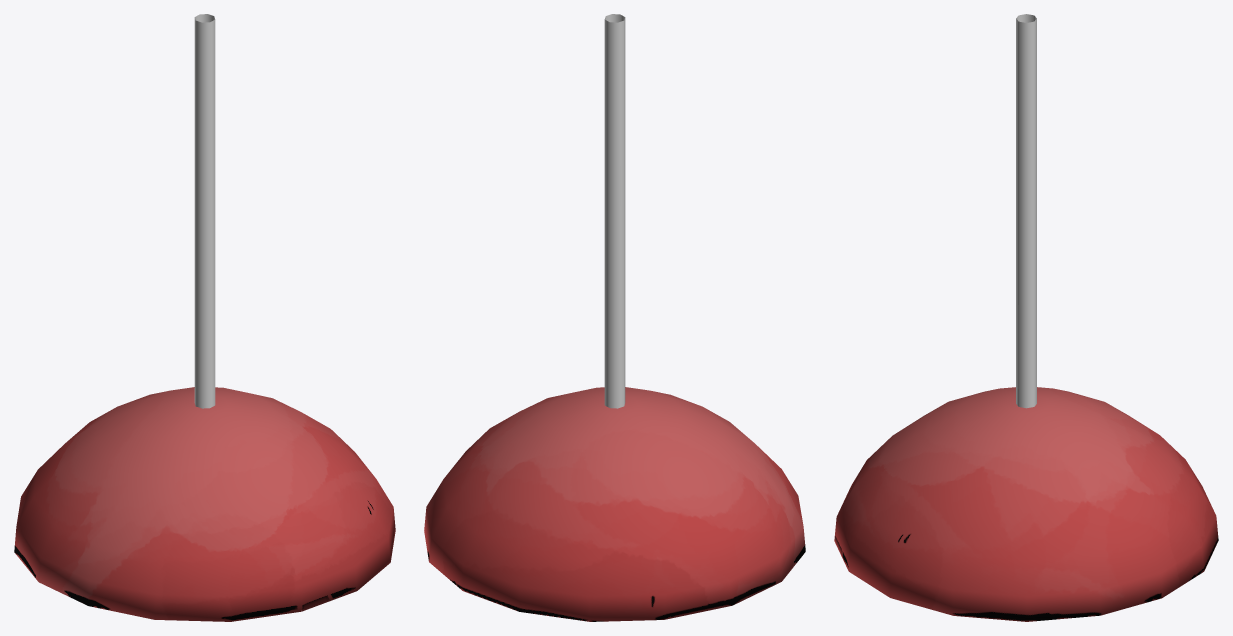
The model's file is Lamp.fbx.
3 views of the same model, side by side, from view 1: azimuth 30°, elevation 25°; view 2: azimuth 150°, elevation 25°; view 3: azimuth 270°, elevation 25° (orthographic).
Parts seen in each view (by area): view 1: Lamp, Wire; view 2: Lamp, Wire; view 3: Lamp, Wire.
Boxes of the visible parts, x1,y1,x2,y2 form: Lamp: (14, 387, 395, 621); Wire: (194, 14, 215, 408); Lamp: (424, 387, 805, 621); Wire: (604, 14, 625, 408); Lamp: (834, 387, 1218, 621); Wire: (1016, 14, 1036, 408).
Size of the model in its own units: 1.81 by 2.73 by 1.81.
